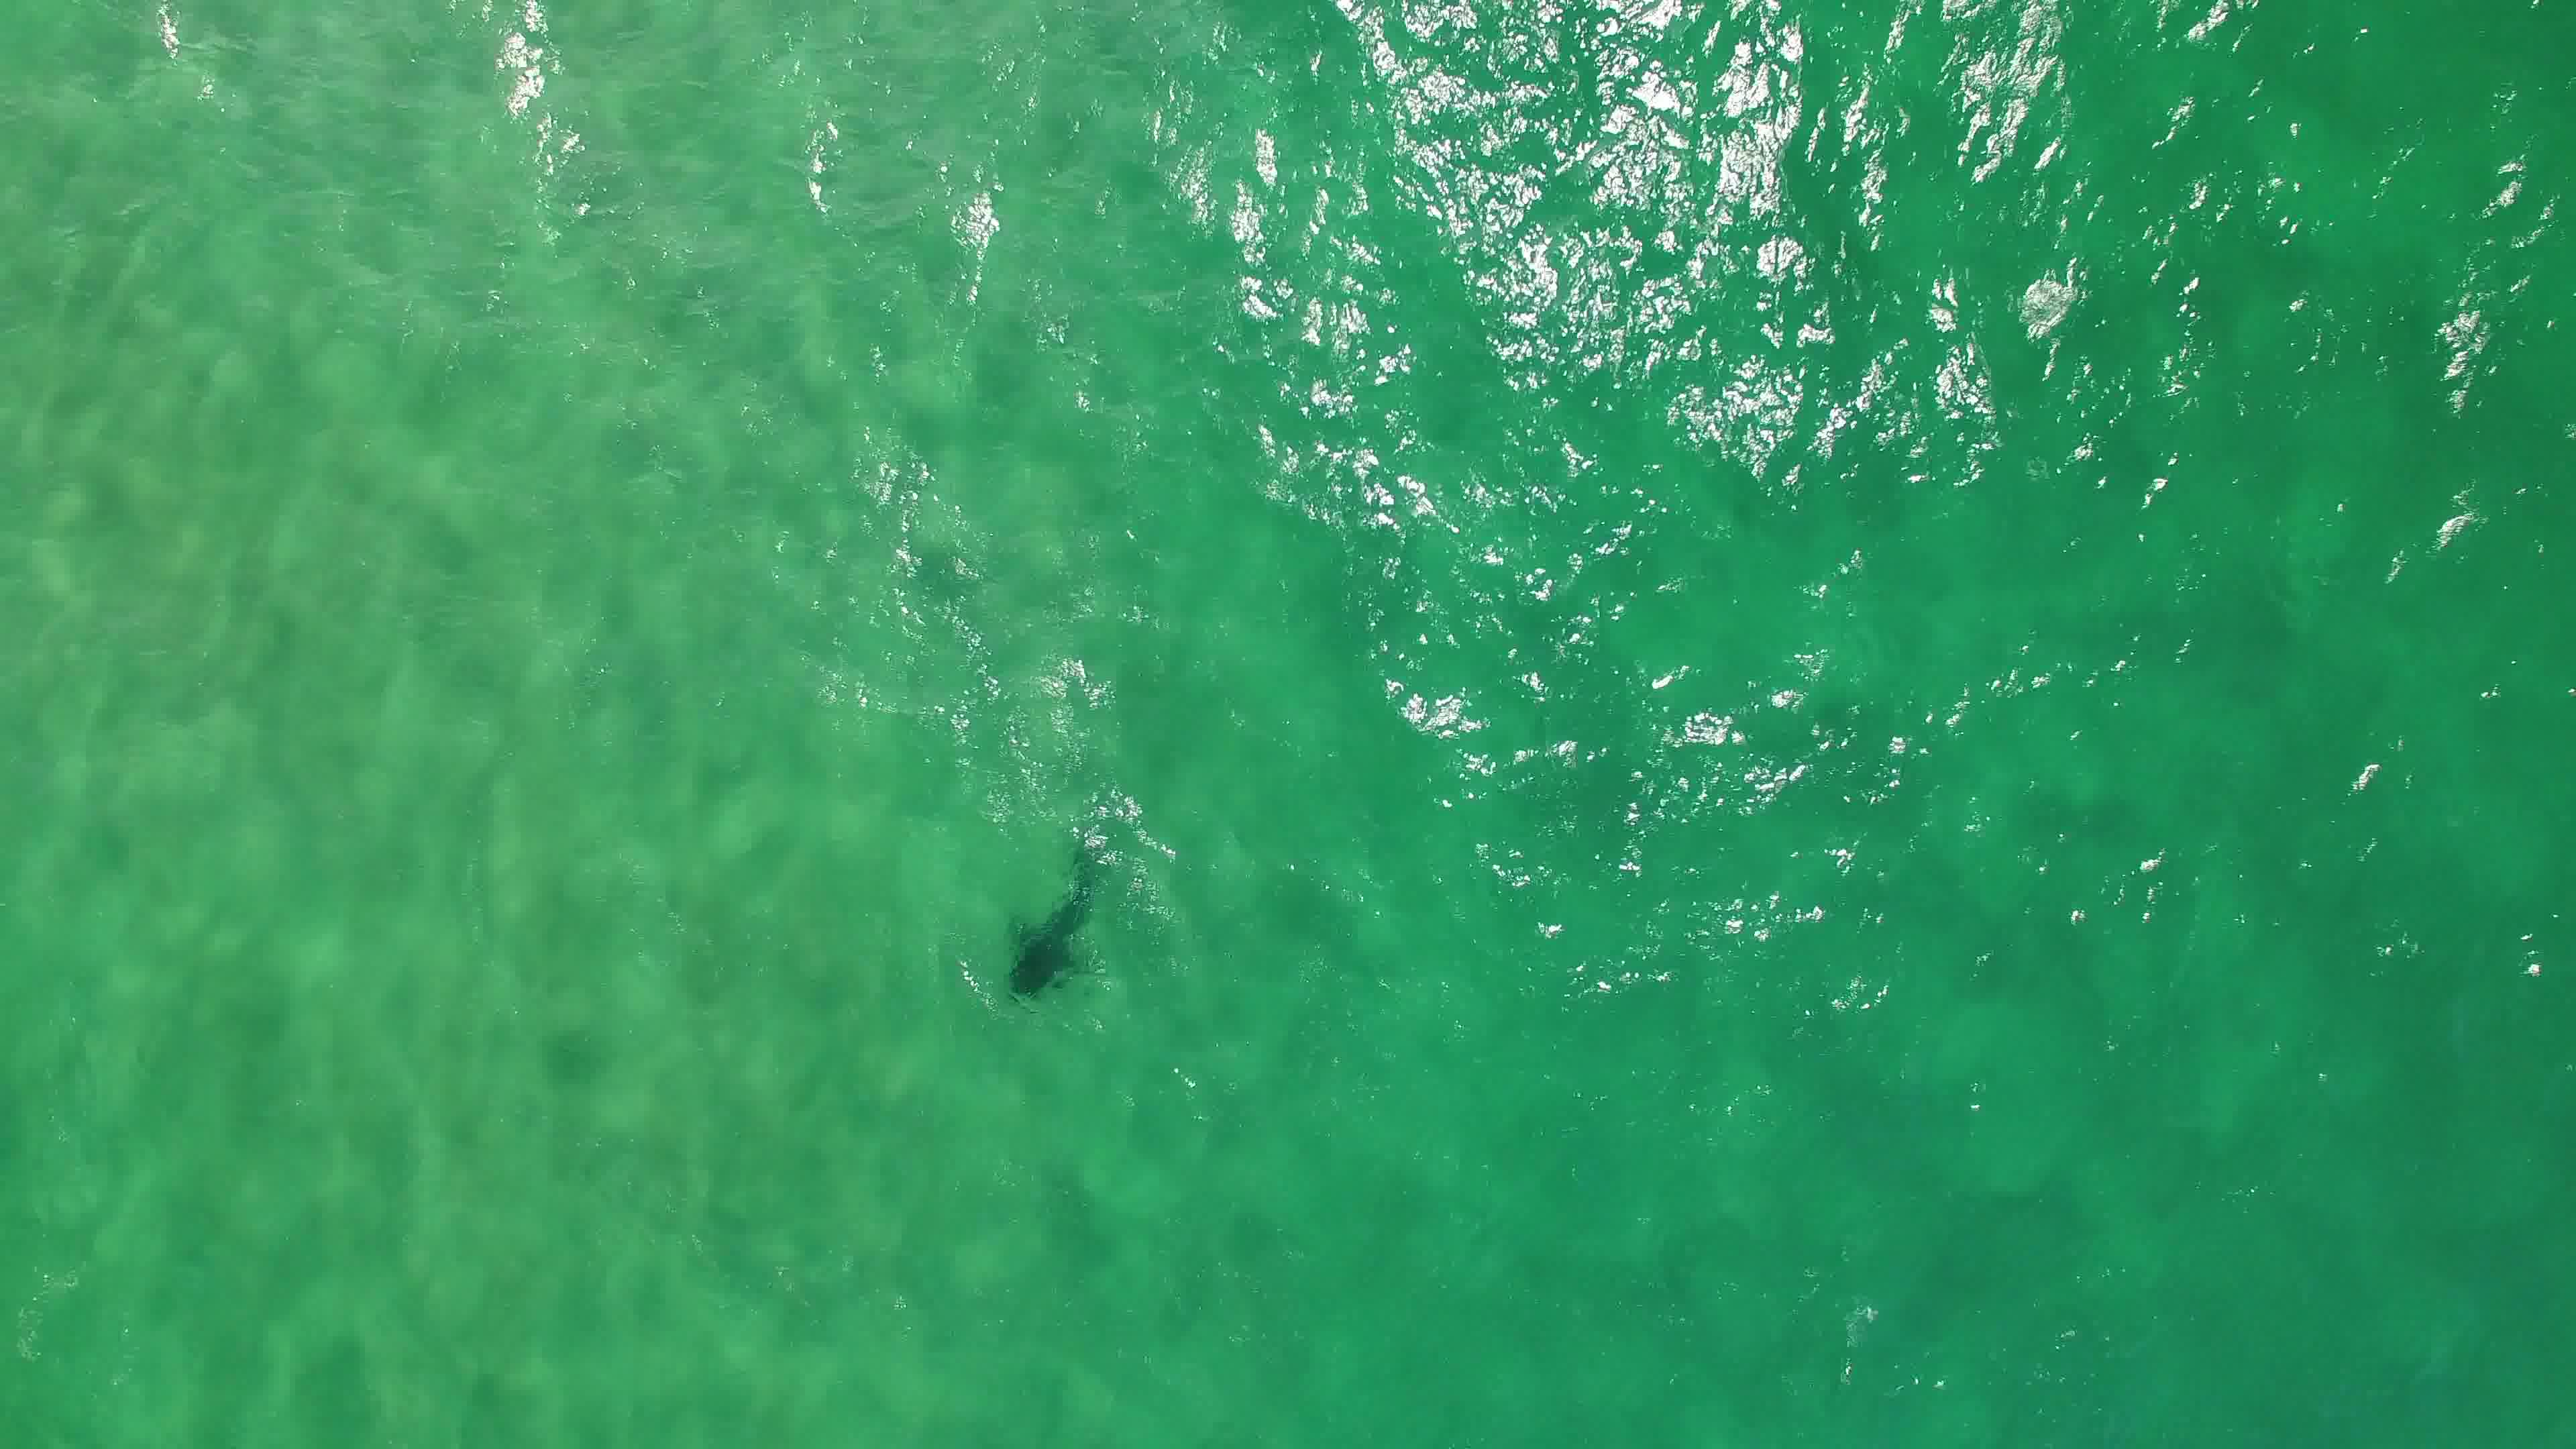shark: (991, 826, 1123, 1014)
